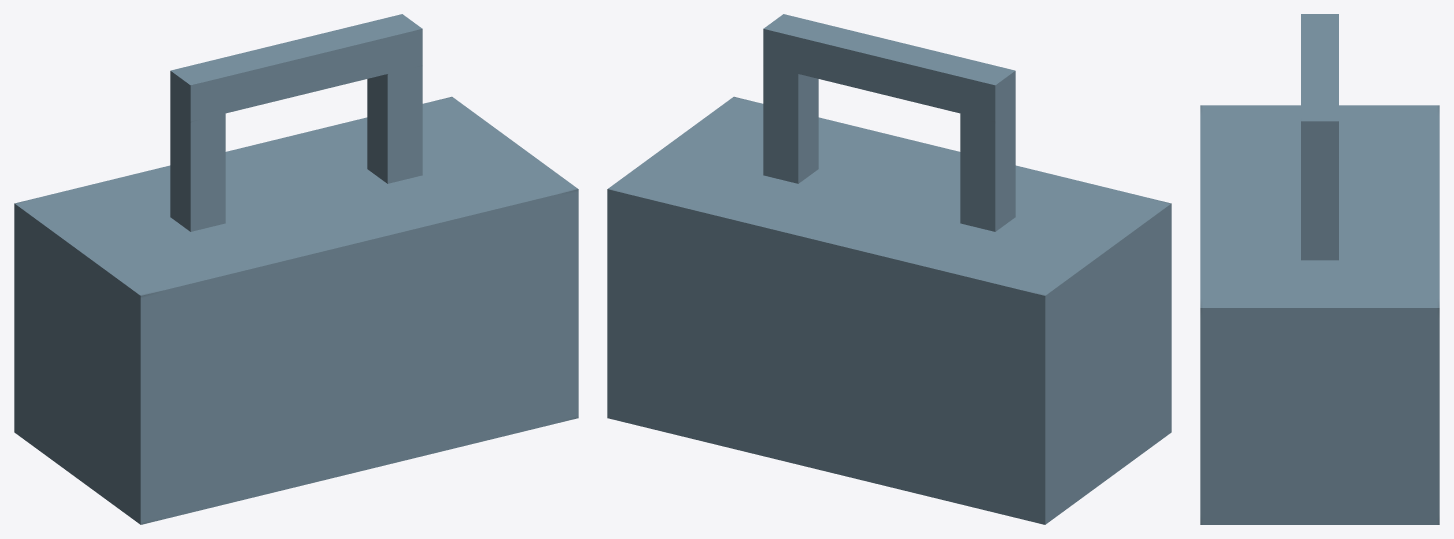
File: toolbox_aligned.glb
3 views of the same model, side by side, from view 1: azimuth 30°, elevation 25°; view 2: azimuth 150°, elevation 25°; view 3: azimuth 270°, elevation 25° (orthographic). The views are drawn at different scales.
Size of the model in its own units: 2 by 1.64 by 1.
1 material, 1 textured.
